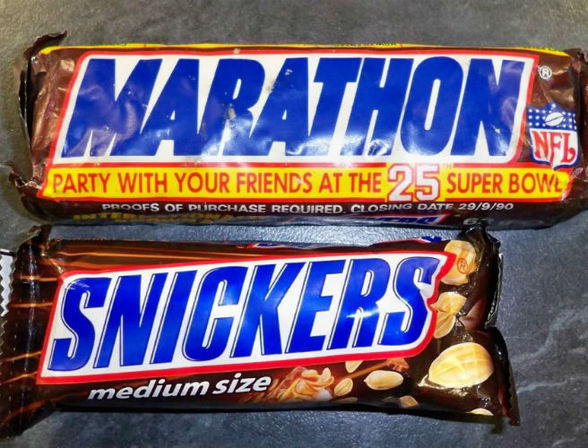snickers: (44, 256, 439, 369)
